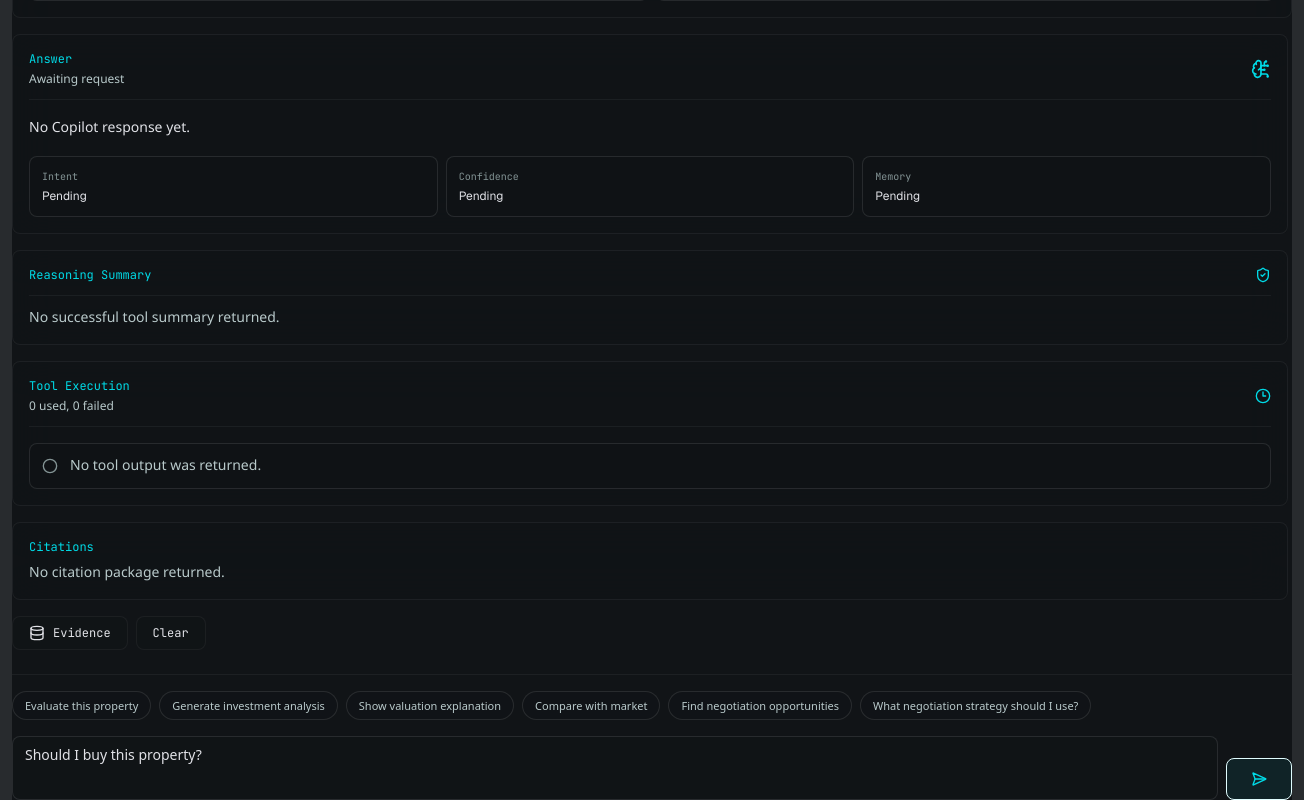
Test: CopilotPanel › submits contextual questions and renders structured orchestrator output
The image size is (1304, 800).
(page scrolled)
Expected: the button "Evaluate this property" is shown, top-left (12, 691), bottom-right (151, 720)
Click the button named "ask copilot": coordinates (1259, 779) top-left (1226, 758), bottom-right (1292, 799)
(page scrolled)
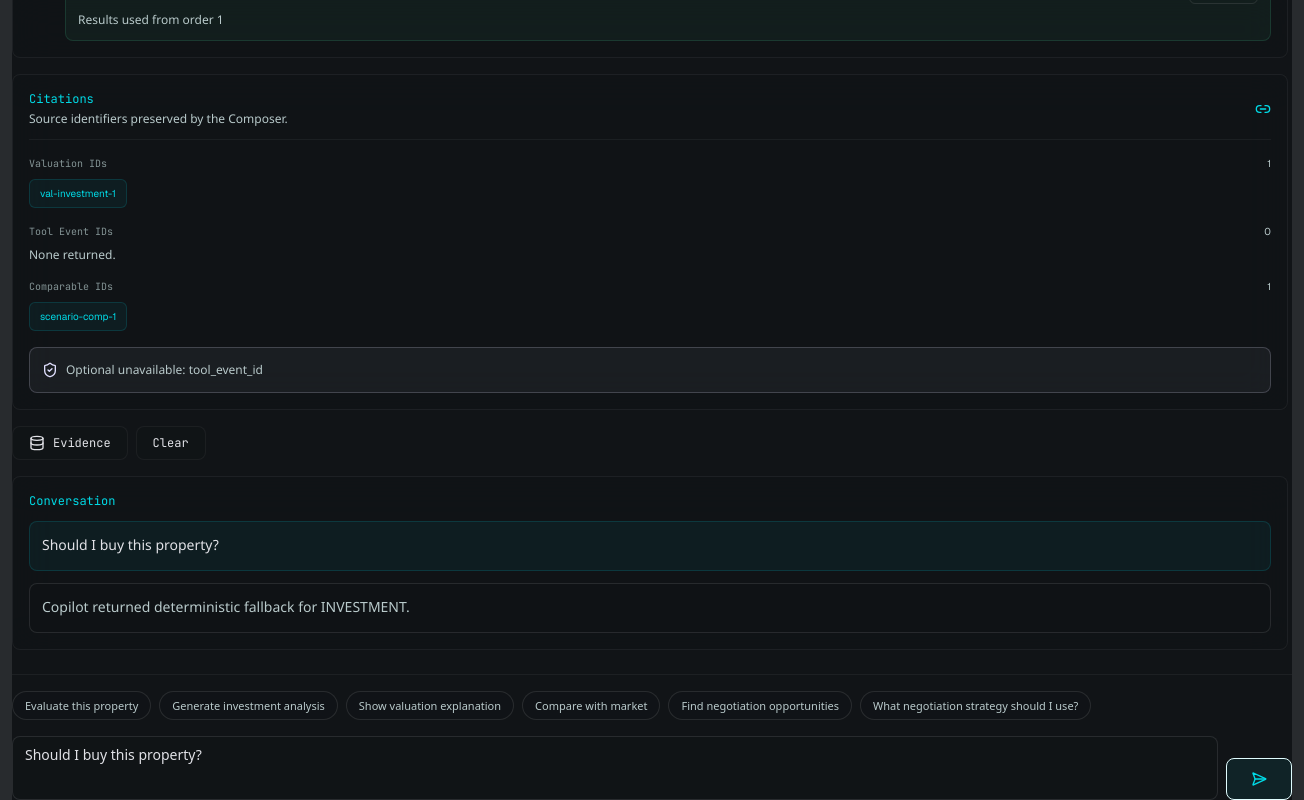
Expected: the text "Citations" is shown, top-left (29, 91), bottom-right (94, 107)
Expected: the text "val-investment-1" is shown, top-left (29, 179), bottom-right (127, 208)
Expected: the text "Copilot returned deterministic fallback for INVESTMENT." is shown, top-left (29, 583), bottom-right (1271, 633)
